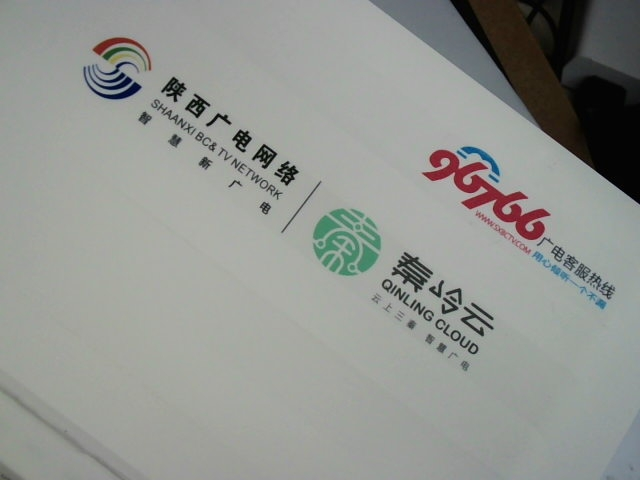QinLing: (308, 204, 498, 378)
